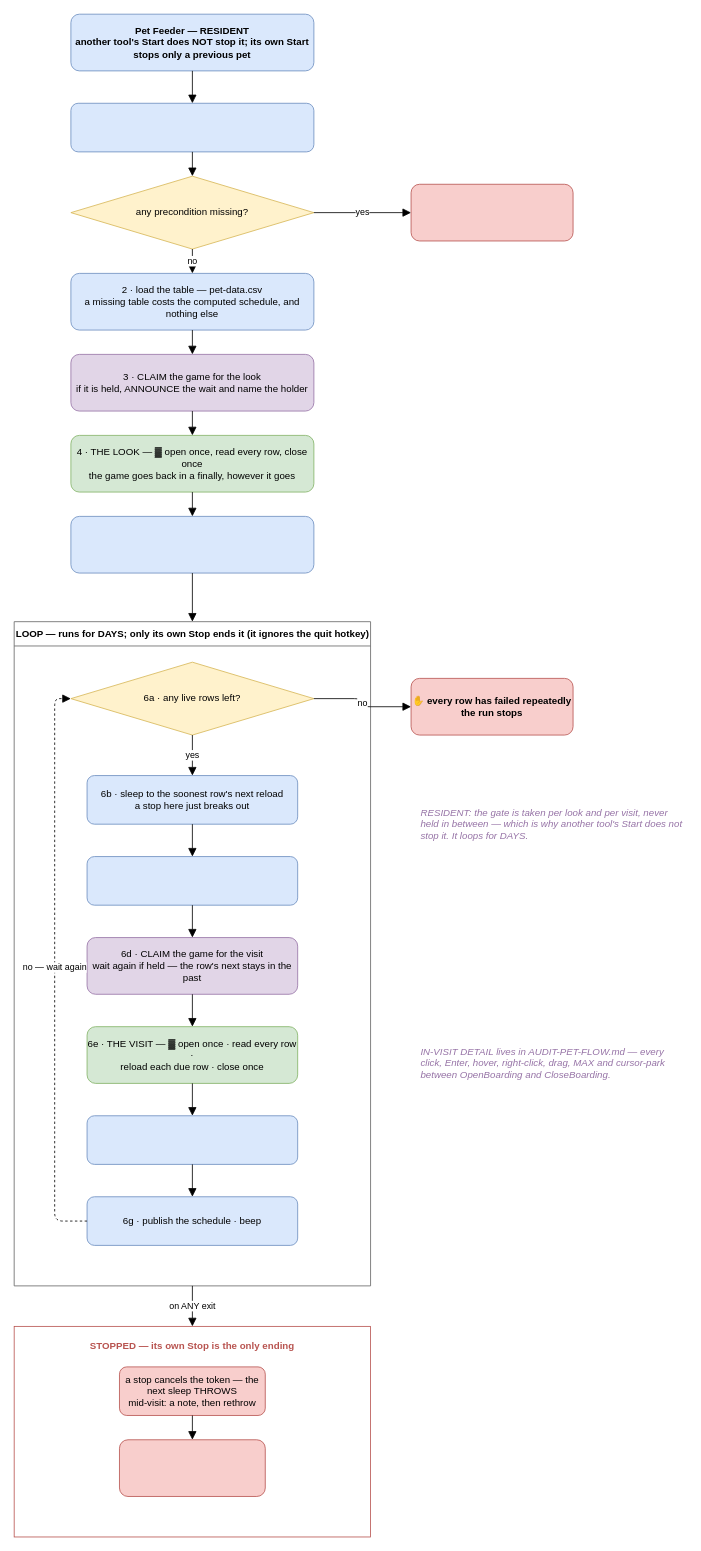
This 701x1551 diagram has some shape labels left out. Each missing label, with the centre of its shape:
"1 · ready — every ticked row set up?" belongs at point 192,127.
"5 · schedule — failures to 0 per row publish the card's standing line" belongs at point 192,544.
"6c · take every row due now, in ROW ORDER" belongs at point 192,880.
"6f · fold the results back, per row Ok · NothingToBoard · Failed" belongs at point 192,1139.
"the game goes back in a finally Running falls · the run ends" belongs at point 192,1467.
"✋ stop the missing thing is named on the card" belongs at point 491,212.
